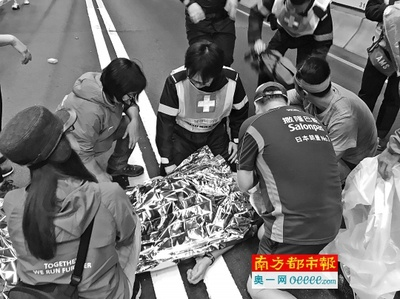falling: (137, 143, 258, 284)
